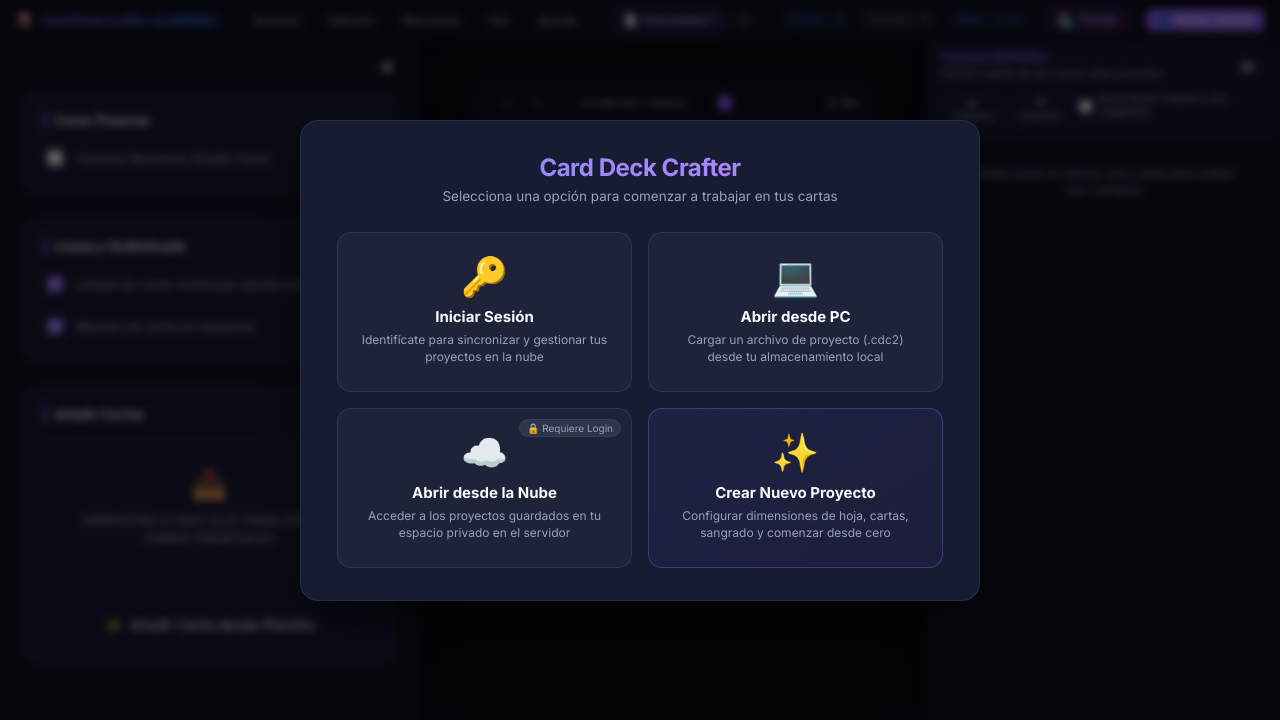
Test: SRS-066: Welcome Hub and MenuBar Flyouts › al pulsar Nuevo Proyecto desde el menú superior, abre el popup de configuración de proyecto directamente
# Crear proyecto inicial desde el Hub
Click the text "Crear Nuevo Proyecto".
click(796, 493)  # box 715,483 -> 876,502
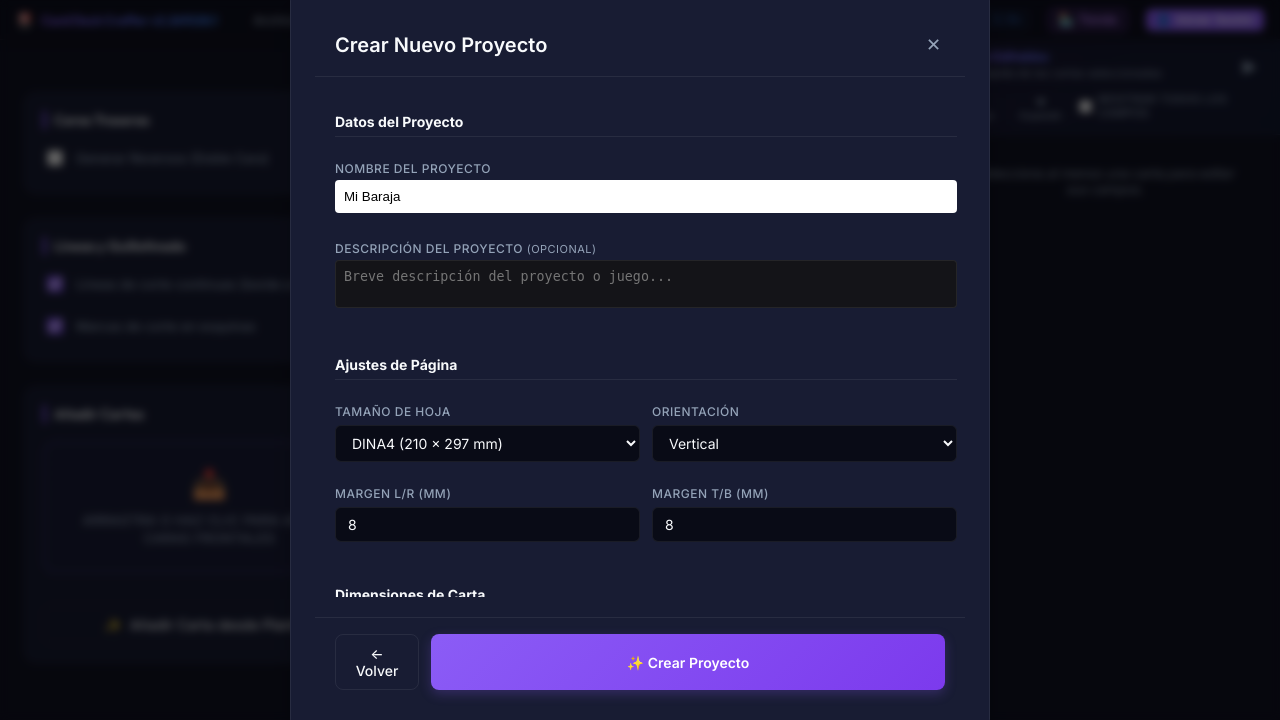
Click the button "✨ Crear Proyecto".
click(688, 662)  # box 431,634 -> 945,690
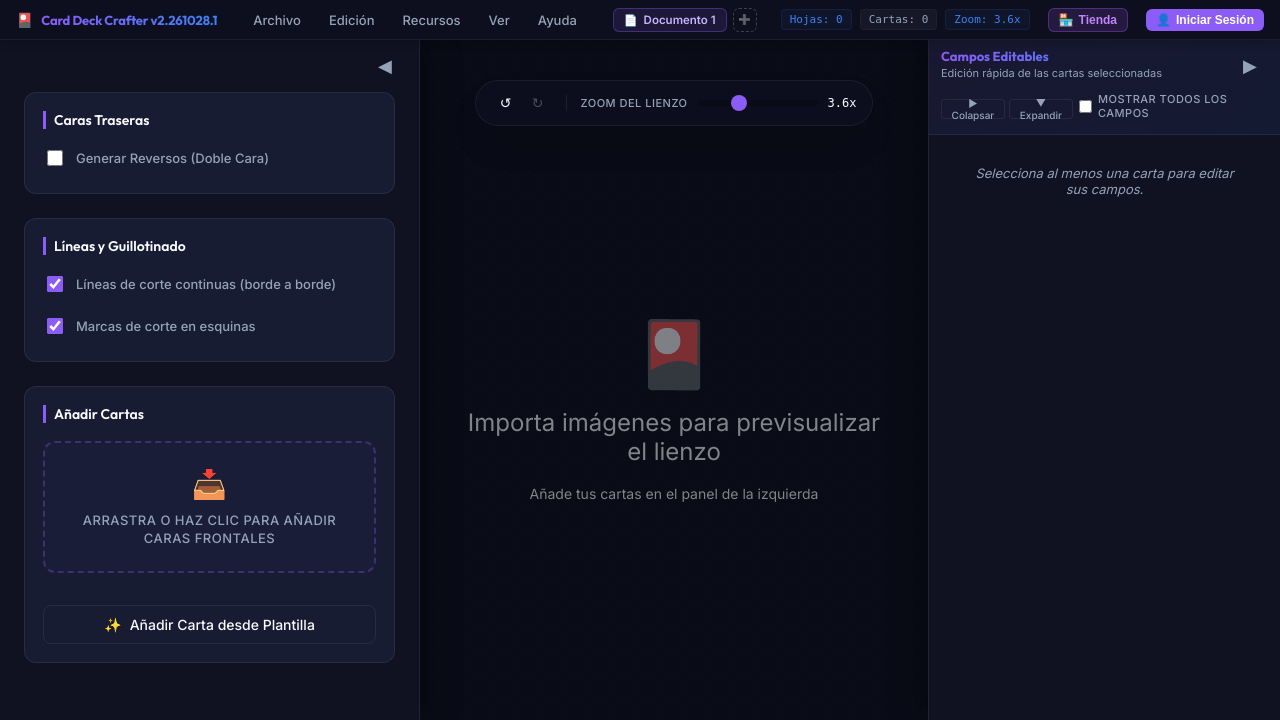
# Abrir menú Archivo y pulsar Nuevo Proyecto
Click the button "Archivo".
click(277, 20)  # box 241,6 -> 313,34
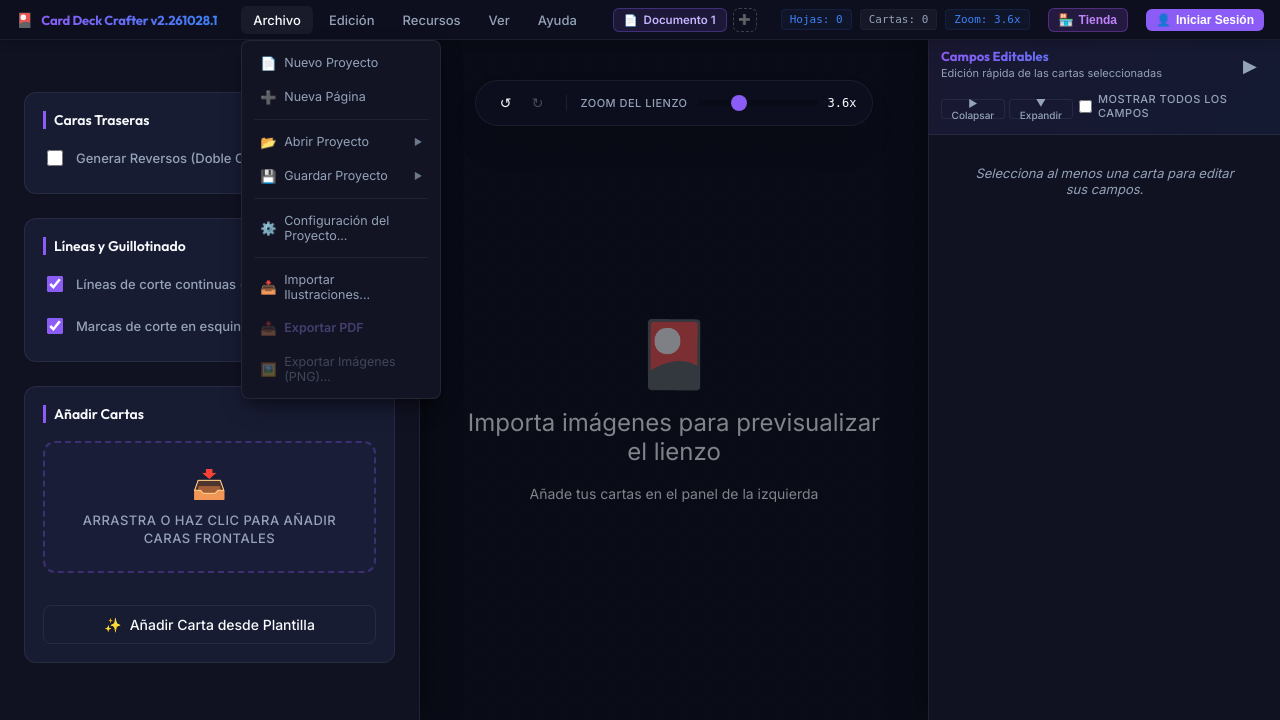
Click the button "📄 Nuevo Proyecto".
click(341, 62)  # box 248,46 -> 434,78
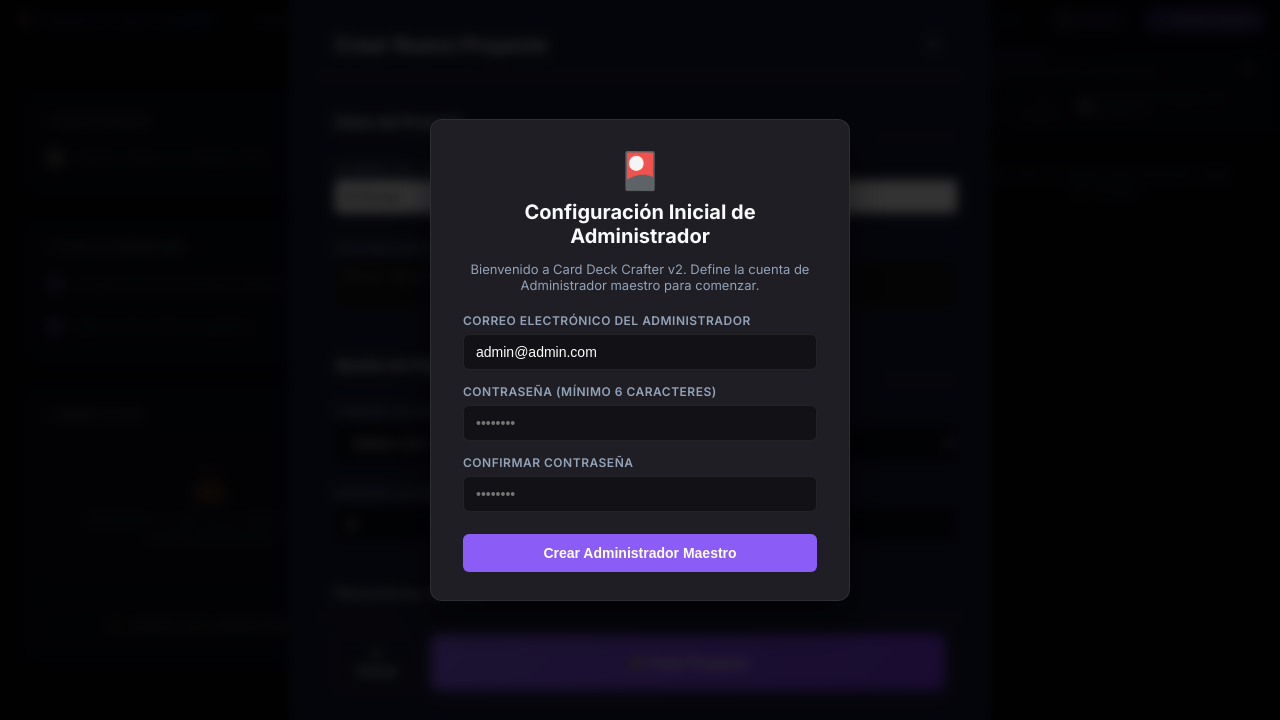
Expected: the text "Datos del Proyecto" is shown, 335,113 -> 957,137
Expected: the text "Ajustes de Página" is shown, 335,356 -> 957,380
Expected: the button "✨ Crear Proyecto" is shown, 431,634 -> 945,690
